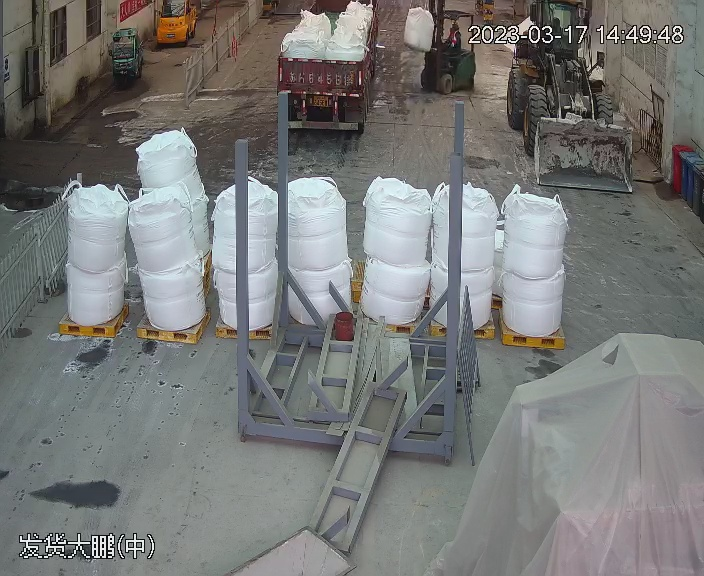truck: (273, 0, 385, 131)
